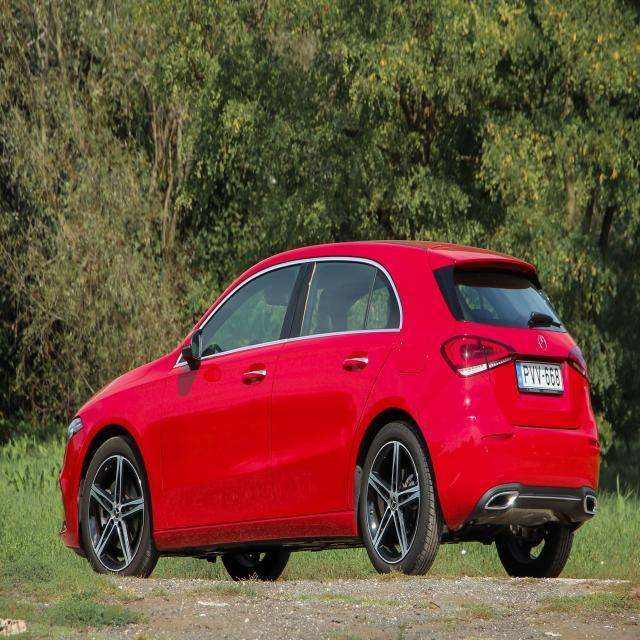licence: (512, 349, 565, 397)
